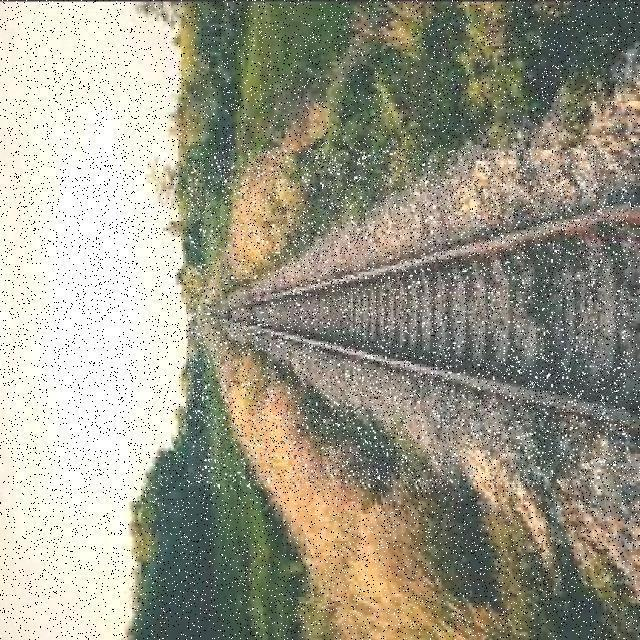rail: (189, 152, 631, 487)
